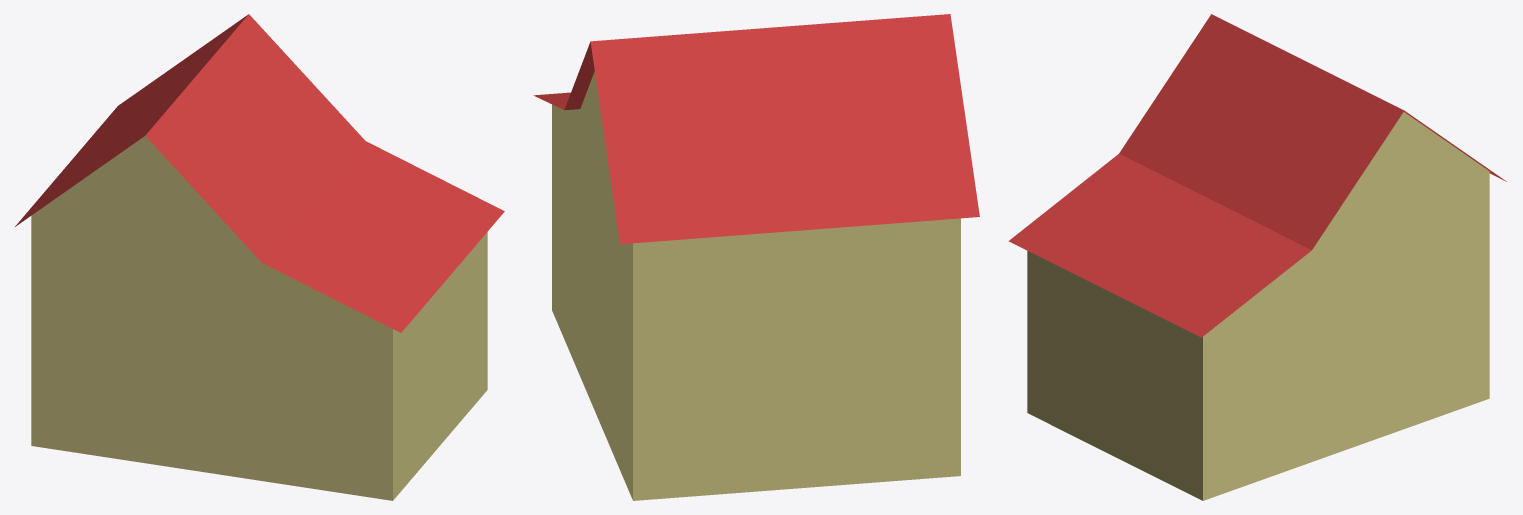
3 renders of one model, left to right at view 1: azimuth 30°, elevation 25°; view 2: azimuth 150°, elevation 25°; view 3: azimuth 270°, elevation 25°, orthographic. The views are drawn at different scales.
Size of the model in its own units: 18.33 by 18.79 by 13.51.
